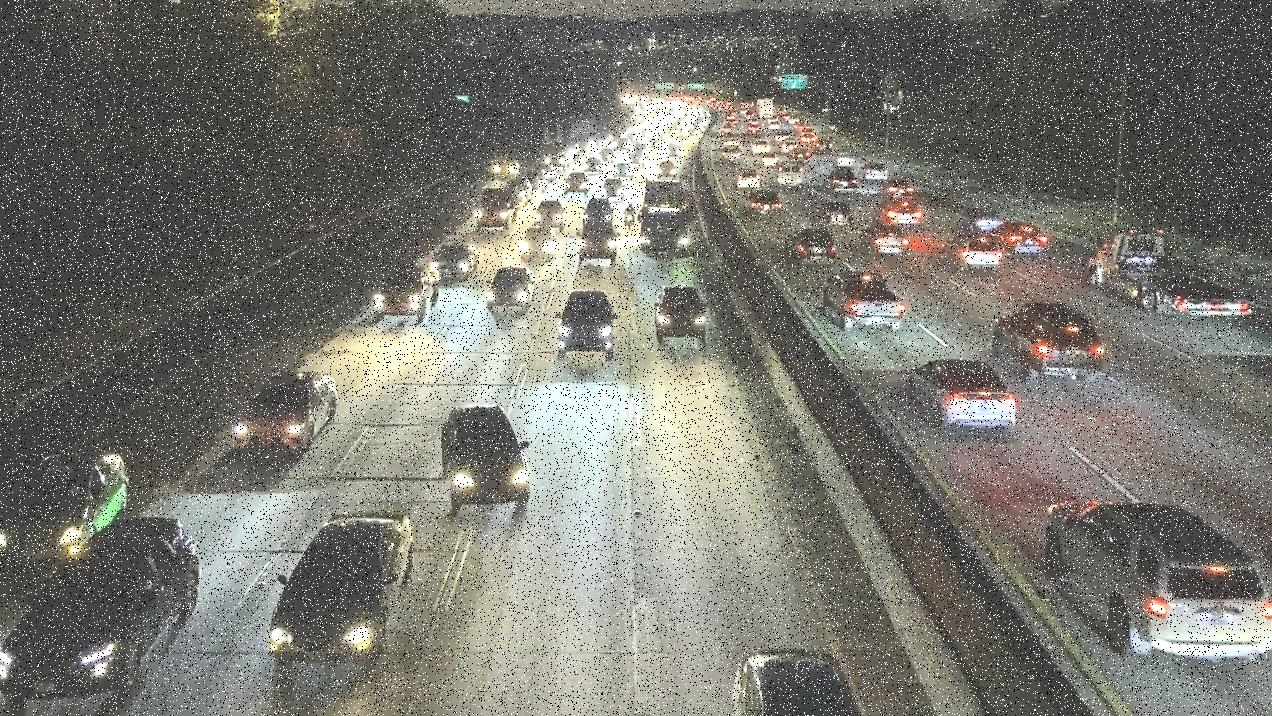bike: (622, 203, 640, 232)
bus: (902, 352, 1022, 431)
car: (1039, 490, 1272, 664), (5, 513, 212, 703), (256, 507, 424, 665), (0, 437, 130, 562), (227, 363, 342, 477), (985, 299, 1112, 396), (436, 403, 535, 512), (722, 639, 859, 716), (822, 264, 909, 334), (554, 287, 618, 365), (372, 265, 443, 320), (654, 279, 714, 334), (940, 230, 1003, 277), (780, 228, 840, 268), (484, 267, 538, 309), (993, 221, 1047, 261), (576, 219, 624, 264), (431, 240, 477, 283), (517, 223, 561, 265), (860, 223, 909, 260), (814, 198, 857, 226), (743, 187, 784, 215), (537, 200, 571, 229), (824, 169, 858, 196), (772, 162, 806, 189), (583, 198, 614, 225), (734, 166, 764, 192), (858, 160, 889, 184), (829, 153, 854, 168)
truck: (1085, 218, 1253, 323), (640, 177, 692, 260), (476, 186, 517, 235)
